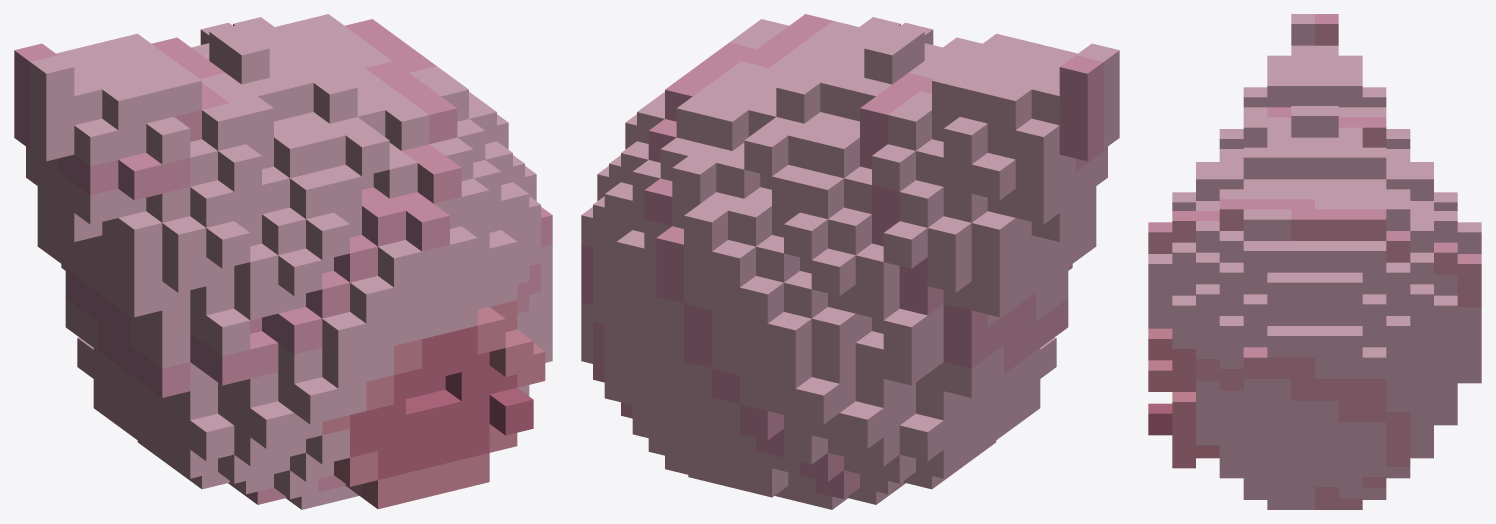
The model's file is shell-pink.glb.
3 renders of one model, left to right at view 1: azimuth 30°, elevation 25°; view 2: azimuth 150°, elevation 25°; view 3: azimuth 270°, elevation 25°, orthographic. The views are drawn at different scales.
Visible parts, largest first — view 1: prop; view 2: prop; view 3: prop.
Boxes of the visible parts, x1,y1,x2,y2 form: prop: (14,14,552,509); prop: (581,14,1119,509); prop: (1148,14,1481,509).
Size of the model in its own units: 15.94 by 15 by 13.12.
